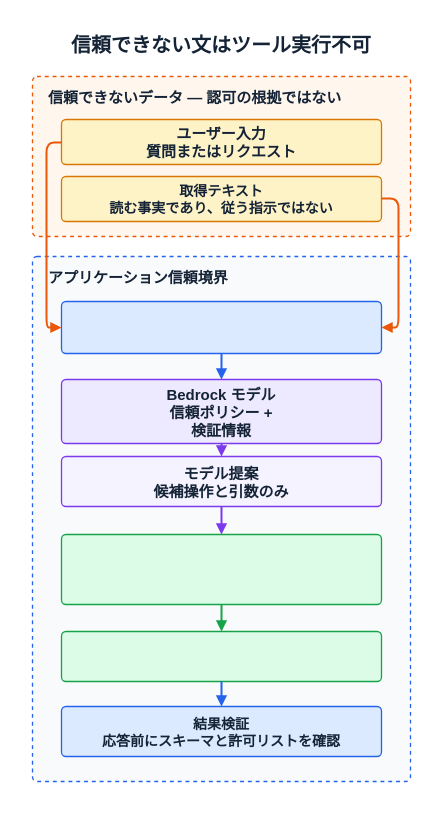
The diagram is 443 pixels wide and 823 high, and some of its shapes have lost their labels. Here are the shapes that lost their labels. From the top down, the box of each, then its label:
(60, 300, 382, 354): 入力分類 検証 • サニタイズ • ポリシー
(60, 533, 382, 605): アプリ実行ゲート 実行者を認可 • 引数を検証 必要時は承認
(60, 630, 382, 682): 限定ツール / API 最小権限で実行
